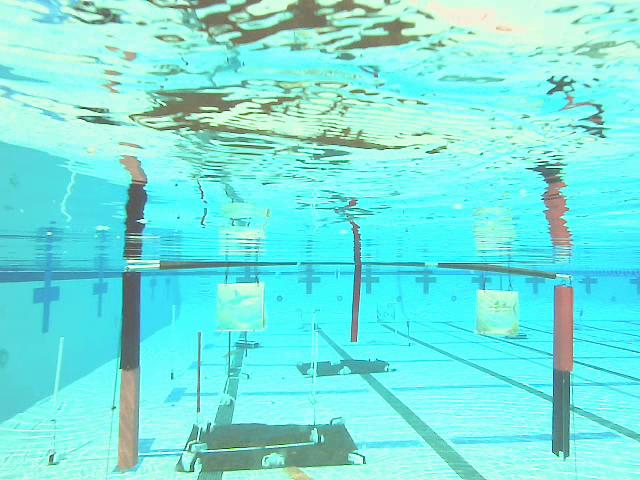black_poster: (197, 332, 202, 414)
divider: (353, 265, 361, 343)
left_gate_poster: (121, 272, 142, 468)
right_gate_poster: (552, 286, 574, 459)
shark: (219, 283, 264, 331)
swordfish: (476, 290, 520, 340)
white_poster: (48, 337, 67, 461), (171, 306, 175, 380)
